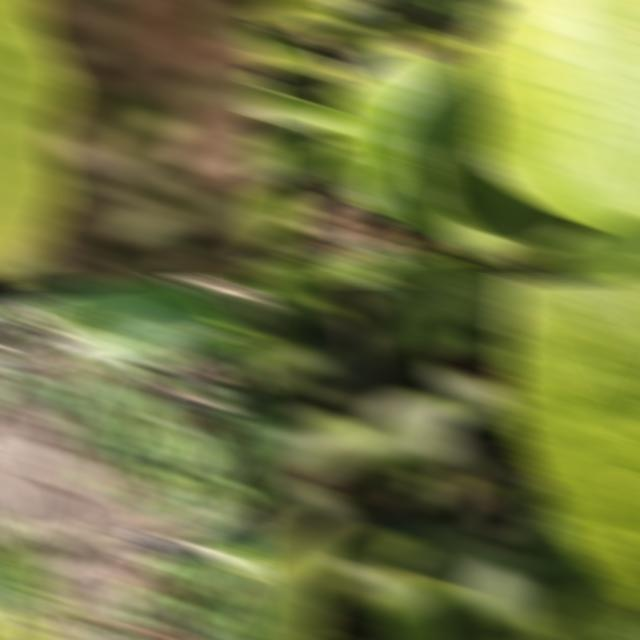Leaf: (325, 25, 578, 271), (499, 278, 640, 613), (465, 0, 640, 230), (0, 0, 76, 284), (515, 497, 640, 640), (54, 278, 244, 370), (369, 278, 517, 371), (353, 565, 512, 640), (248, 511, 338, 640), (0, 530, 80, 640), (526, 215, 640, 284), (248, 249, 415, 284), (223, 378, 264, 511), (248, 178, 305, 264), (248, 24, 336, 75), (365, 252, 497, 284), (248, 278, 349, 318), (248, 153, 351, 190), (248, 0, 366, 31), (248, 123, 322, 167), (323, 27, 420, 53), (0, 509, 23, 614), (248, 75, 289, 94), (427, 29, 466, 44)
